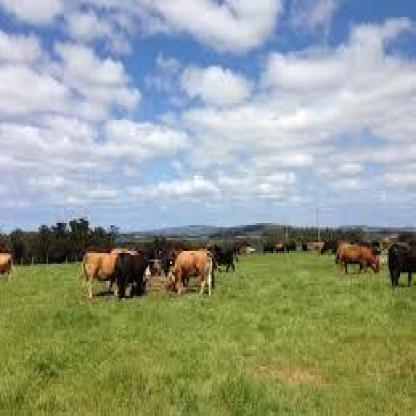cow: (85, 251, 137, 300), (112, 247, 158, 300), (167, 252, 215, 297), (334, 241, 382, 276), (390, 245, 416, 285), (205, 244, 237, 274), (0, 253, 14, 281)
